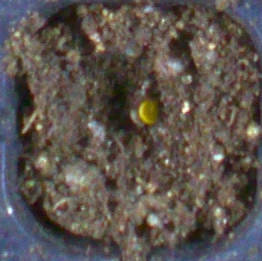chilli seed: (138, 100, 158, 124)
